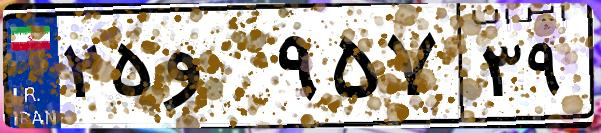2: (57, 26, 110, 100)
3: (475, 38, 525, 113)
5: (330, 28, 385, 110), (110, 28, 158, 98)
7: (385, 28, 445, 110)
9: (270, 28, 330, 110), (525, 38, 570, 115)
و: (158, 20, 270, 120)
